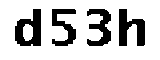3: (81, 5, 114, 52)
5: (47, 4, 80, 52)
d: (10, 4, 44, 51)
h: (115, 4, 148, 53)
